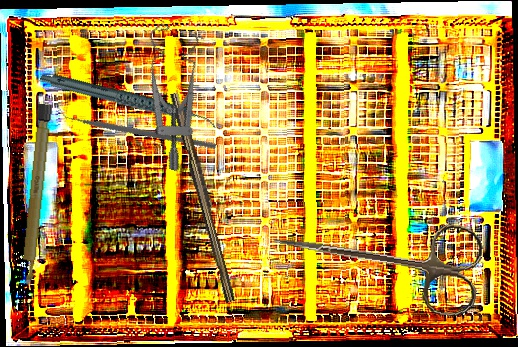Chopper: (57, 57, 217, 196)
Handpiece: (38, 38, 220, 165)
Iris Scissors: (266, 199, 486, 320)
Scalpel Handle: (166, 90, 242, 304), (18, 103, 53, 286)
Speculum: (103, 16, 232, 173)
